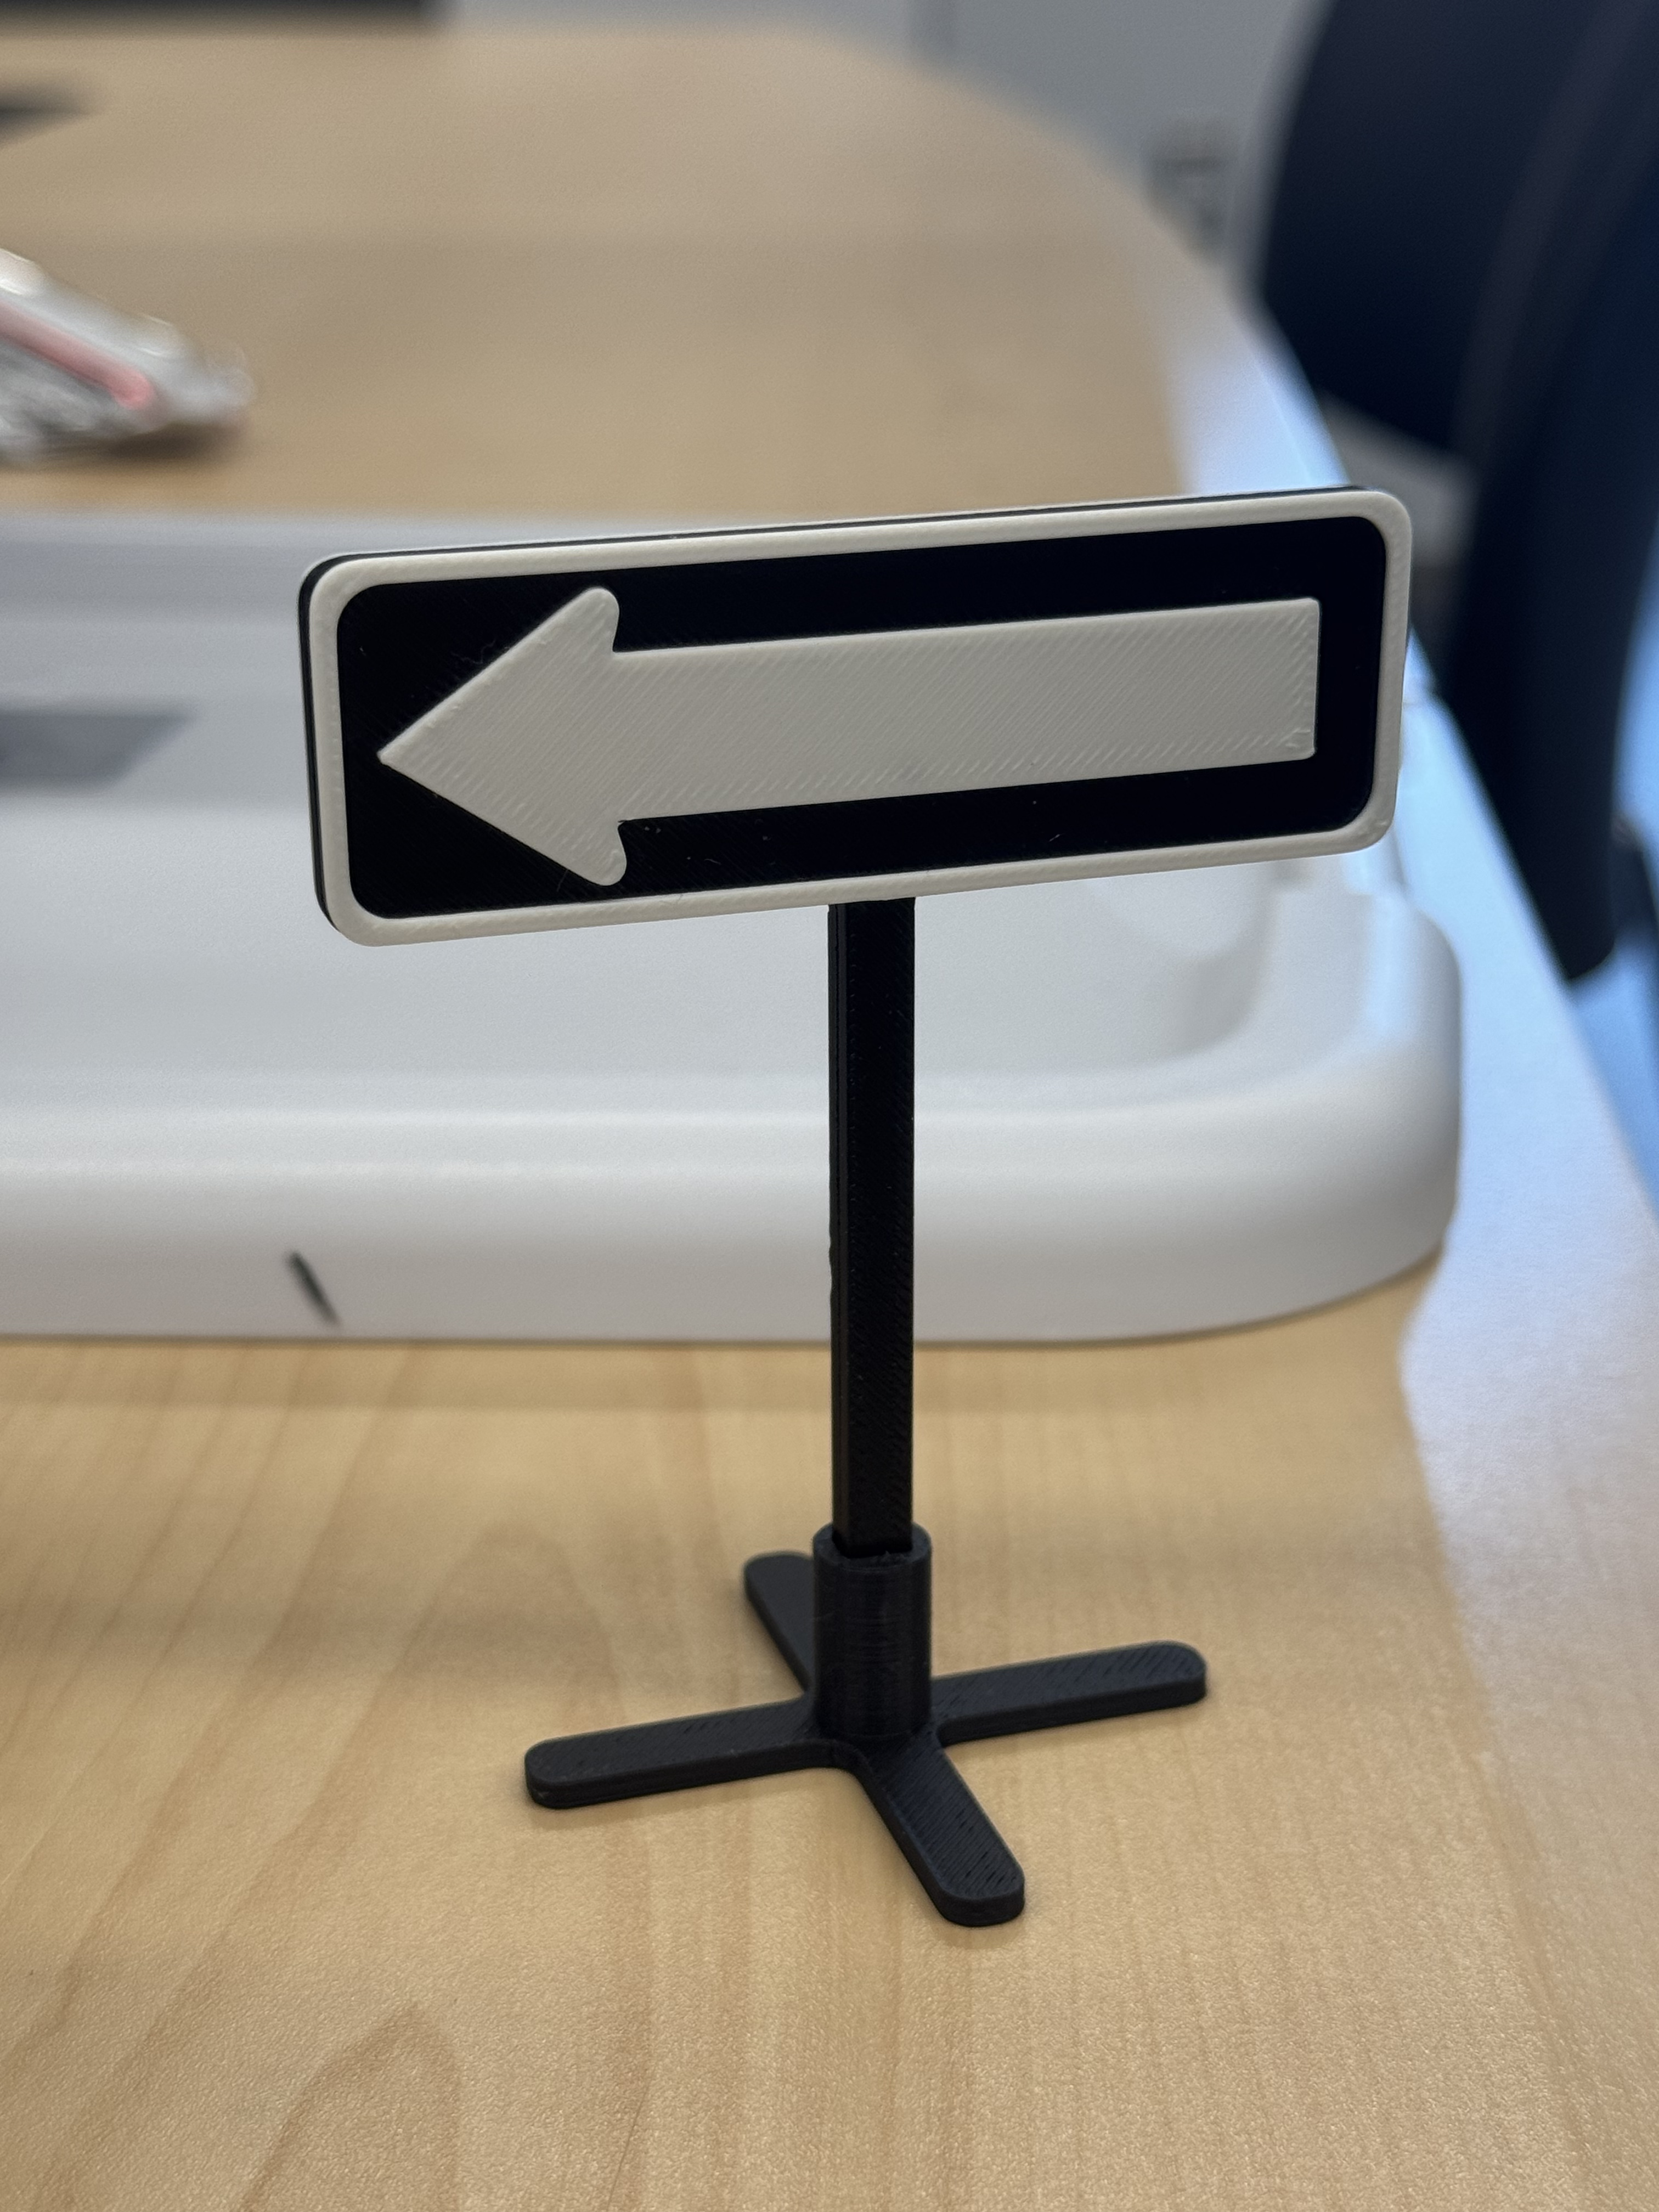sign_oneway_left: (293, 472, 1425, 1914)
